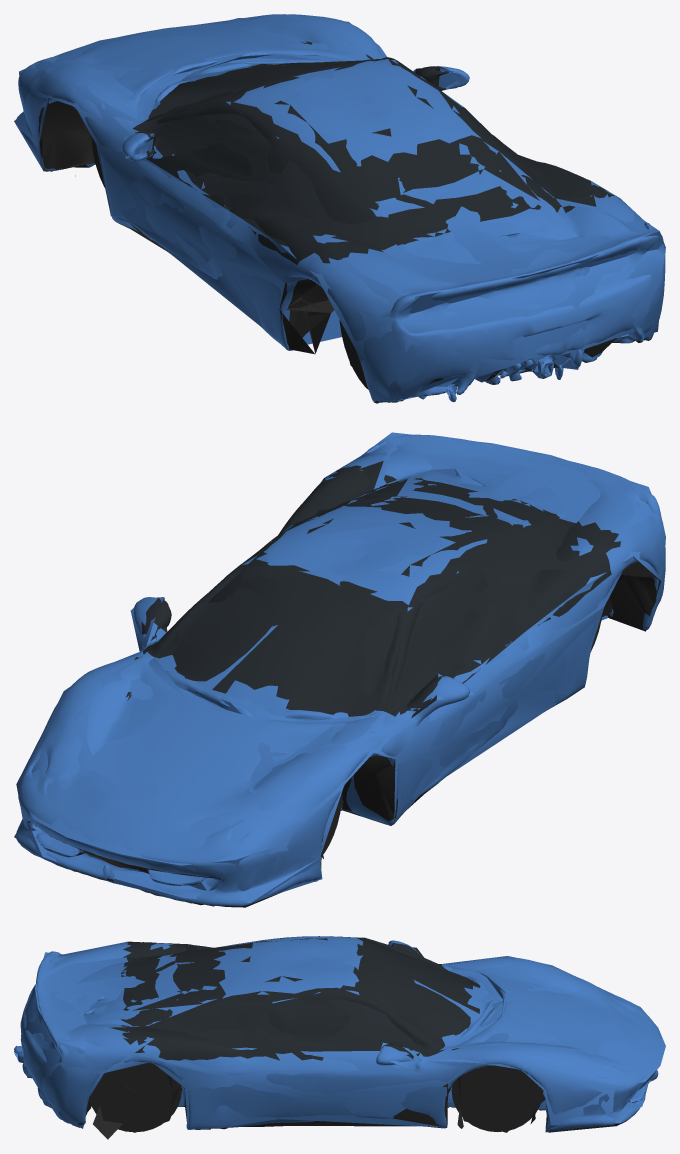
File: ferrari-458-speciale.glb
3 renders of one model, top to bottom at view 1: azimuth 30°, elevation 25°; view 2: azimuth 150°, elevation 25°; view 3: azimuth 270°, elevation 25°, orthographic. The views are drawn at different scales.
Visible parts, largest first — view 1: body, far; view 2: body, far; view 3: body, far.
Part boxes in pixels (x1,y1,x2,y2): body: (17,14,665,403); far: (14,14,665,402); body: (16,434,665,907); far: (14,432,665,902); body: (14,936,661,1139); far: (14,937,665,1132).
Bounding box in the file's own units: 2.01 × 1.1 × 4.56.
